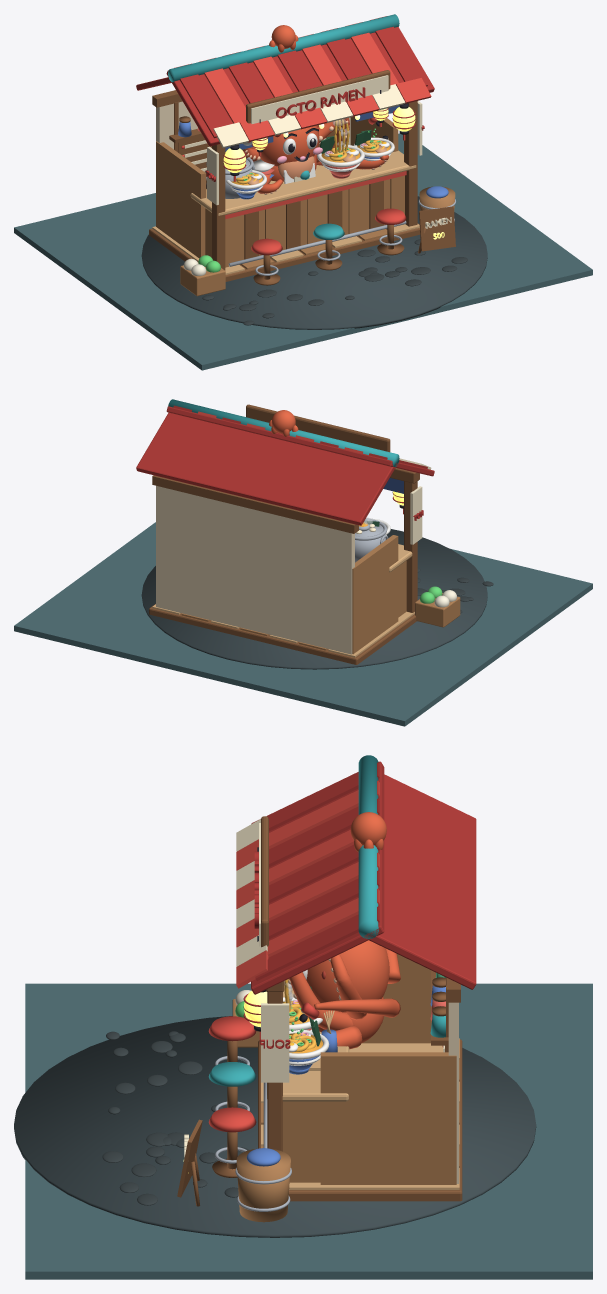
Rendered from octopus_ramen_booth.glb.
3 views of the same model, one above another, from view 1: azimuth 30°, elevation 25°; view 2: azimuth 150°, elevation 25°; view 3: azimuth 270°, elevation 25° (orthographic). The views are drawn at different scales.
Visible parts, largest first — view 1: Ground, PlazaDisc, SideL, RoofFront, CounterTop, Ridge, CounterBody, SignFace, Platform, Post.001, EaselBoard, Post (+34 smaller); view 2: Ground, BackWall, RoofBack, PlazaDisc, SideL, Platform, BackBeam, RoofFront, SignBoard, Ridge, Post, Crate (+4 smaller); view 3: Ground, PlazaDisc, SideR, RoofBack, RoofFront, SideL, OctoHead, Platform, CounterBody, Ridge, Barrel, VSign.001 (+24 smaller).
Part boxes in pixels (bbox=[...]): Ground: bbox=[14, 133, 592, 370]; PlazaDisc: bbox=[141, 196, 487, 329]; SideL: bbox=[156, 141, 206, 258]; RoofFront: bbox=[166, 27, 434, 146]; CounterTop: bbox=[190, 150, 416, 215]; Ridge: bbox=[168, 14, 399, 82]; CounterBody: bbox=[205, 179, 390, 267]; SignFace: bbox=[251, 75, 388, 123]; Platform: bbox=[149, 223, 420, 281]; Post.001: bbox=[404, 101, 417, 226]; EaselBoard: bbox=[419, 206, 455, 251]; Post: bbox=[212, 144, 225, 270]; Ground: bbox=[14, 522, 592, 726]; BackWall: bbox=[156, 485, 354, 654]; RoofBack: bbox=[136, 412, 397, 525]; PlazaDisc: bbox=[141, 529, 487, 669]; SideL: bbox=[352, 535, 398, 654]; Platform: bbox=[149, 604, 416, 664]; BackBeam: bbox=[152, 475, 358, 533]; RoofFront: bbox=[166, 406, 434, 476]; SignBoard: bbox=[246, 404, 390, 452]; Ridge: bbox=[168, 399, 399, 466]; Post: bbox=[404, 481, 417, 612]; Crate: bbox=[415, 593, 460, 627]; Ground: bbox=[25, 983, 592, 1279]; PlazaDisc: bbox=[14, 1016, 536, 1237]; SideR: bbox=[320, 1052, 456, 1184]; RoofBack: bbox=[365, 774, 476, 989]; RoofFront: bbox=[251, 761, 384, 994]; SideL: bbox=[362, 954, 430, 1043]; OctoHead: bbox=[306, 940, 389, 1012]; Platform: bbox=[258, 1039, 462, 1201]; CounterBody: bbox=[283, 1101, 320, 1182]; Ridge: bbox=[358, 755, 378, 939]; Barrel: bbox=[236, 1148, 290, 1222]; VSign.001: bbox=[261, 1003, 289, 1082].
Size of the model in its own units: 12 by 6.26 by 10.2.
